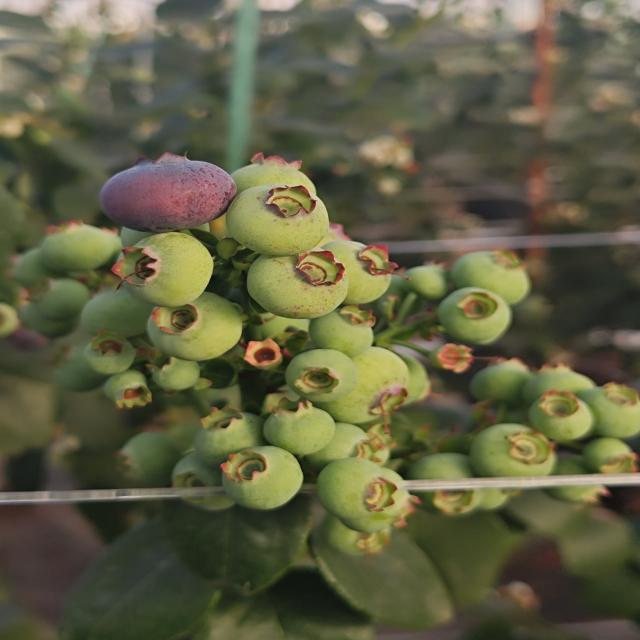ripe: (86, 152, 245, 233)
